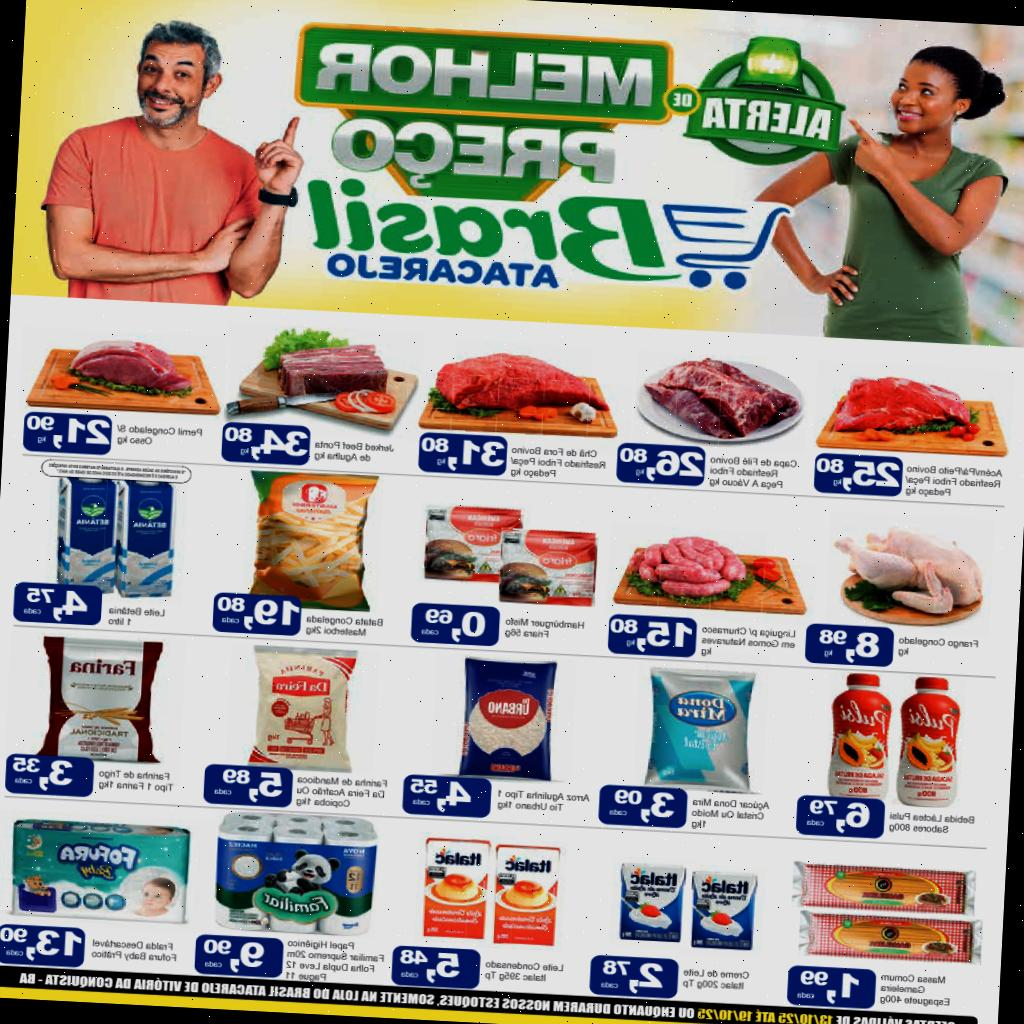price: (616, 445, 706, 485), (215, 594, 302, 635), (609, 616, 695, 656), (24, 414, 112, 453), (222, 425, 309, 464), (816, 456, 902, 495), (0, 926, 84, 965), (420, 436, 506, 474), (210, 767, 286, 805), (605, 787, 679, 825), (419, 605, 489, 645), (197, 938, 269, 976), (596, 956, 668, 994), (406, 776, 474, 816), (804, 796, 873, 834), (814, 628, 882, 666), (794, 968, 862, 1006), (395, 948, 462, 986), (22, 586, 90, 622), (8, 756, 74, 792)
product_text: (284, 936, 388, 985), (698, 620, 800, 664), (903, 462, 1005, 504), (508, 442, 610, 484), (294, 772, 392, 814), (708, 452, 802, 492), (494, 786, 594, 818), (690, 796, 772, 834), (878, 971, 954, 1011), (86, 936, 182, 966), (887, 808, 976, 840), (897, 632, 983, 665), (502, 614, 587, 646), (116, 423, 206, 452), (483, 957, 568, 987), (313, 437, 396, 467), (96, 766, 178, 796), (304, 612, 387, 641), (680, 965, 753, 995), (106, 602, 168, 632)
